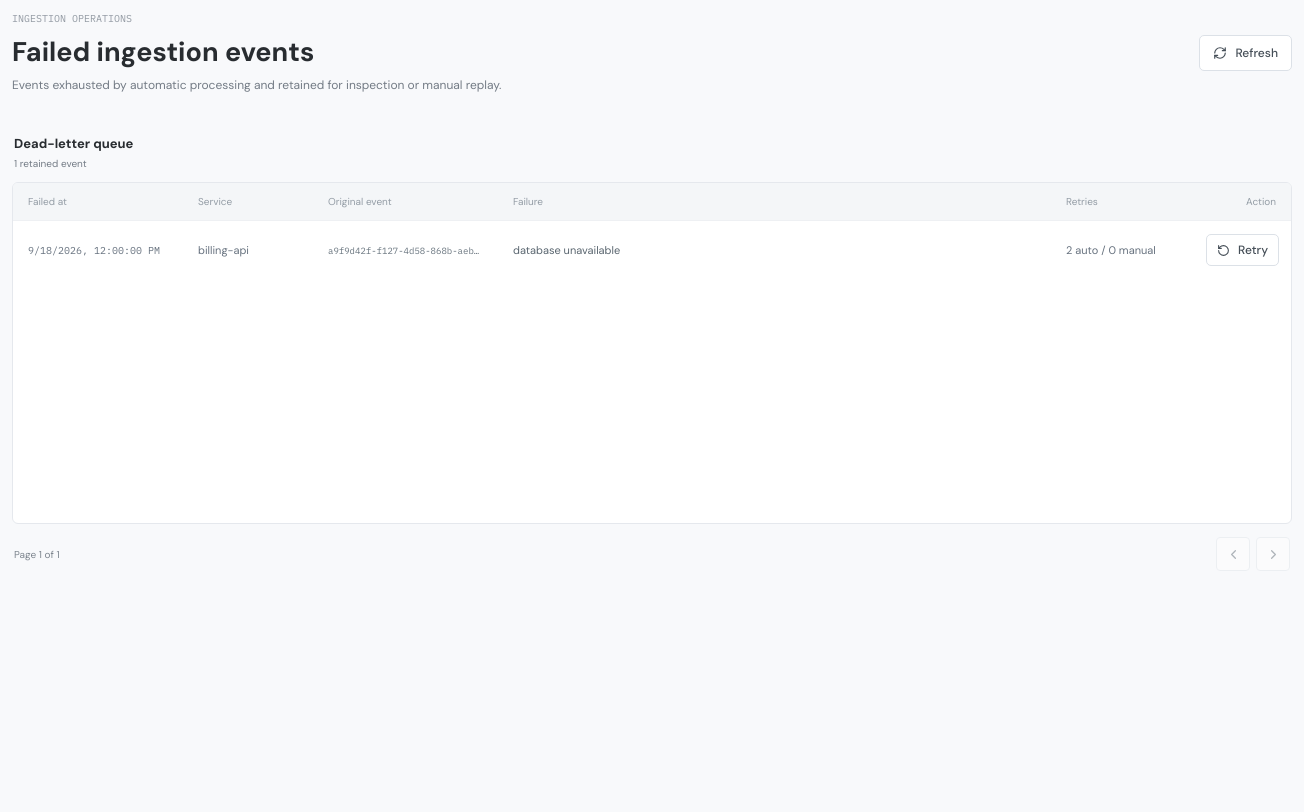
it: shows failure details and explicitly retries an event
Expected: the text "billing-api" is shown, [183, 221, 313, 279]
Expected: the button "database unavailable" is shown, [513, 243, 1036, 257]
Click the button "Retry": (1242, 250) [1206, 234, 1279, 266]
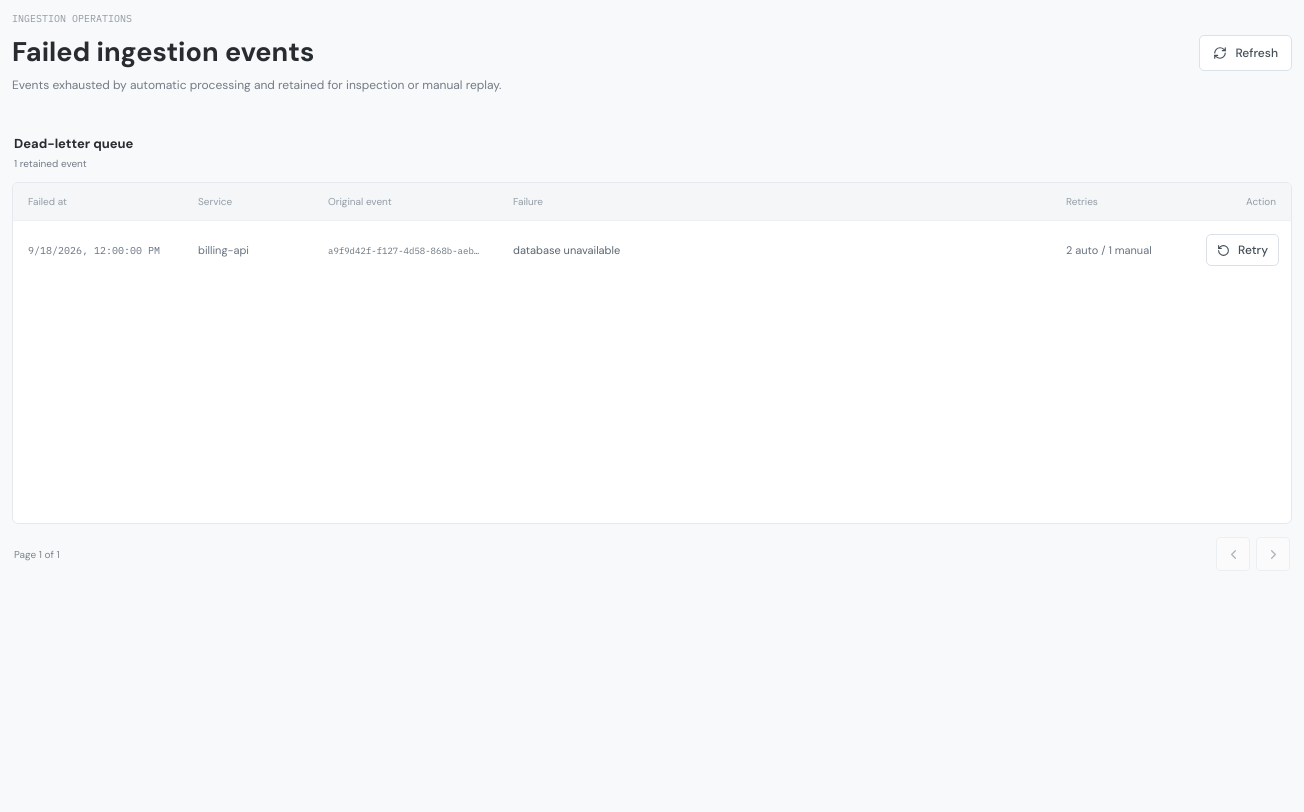
Expected: the text "2 auto / 1 manual" is shown, [1051, 221, 1191, 279]
